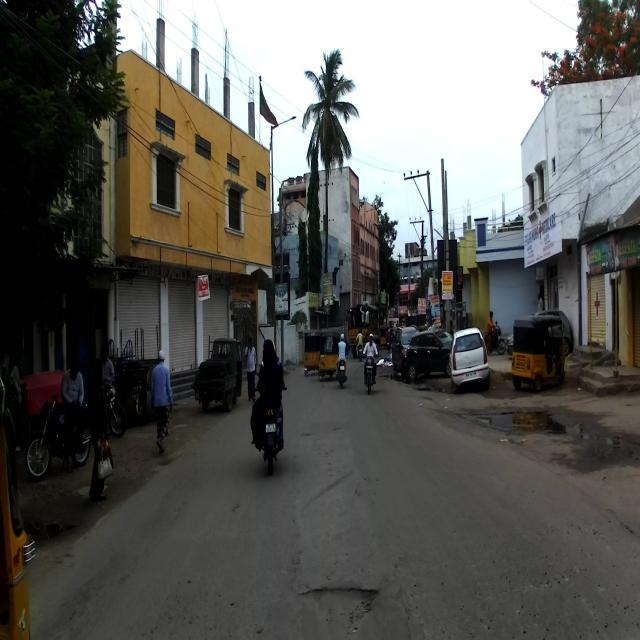pothole: (418, 398, 639, 486), (294, 480, 390, 640)
